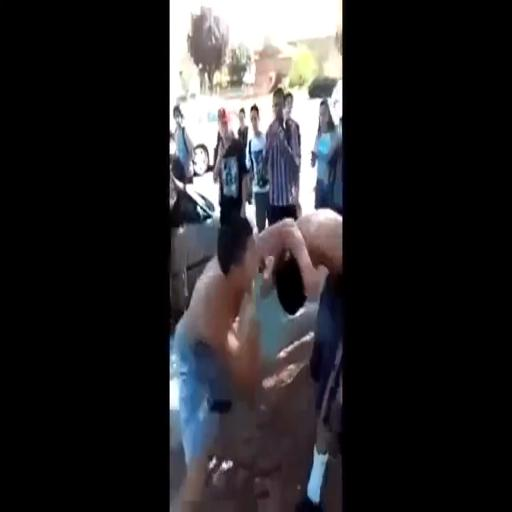violencia: (170, 198, 344, 466)
